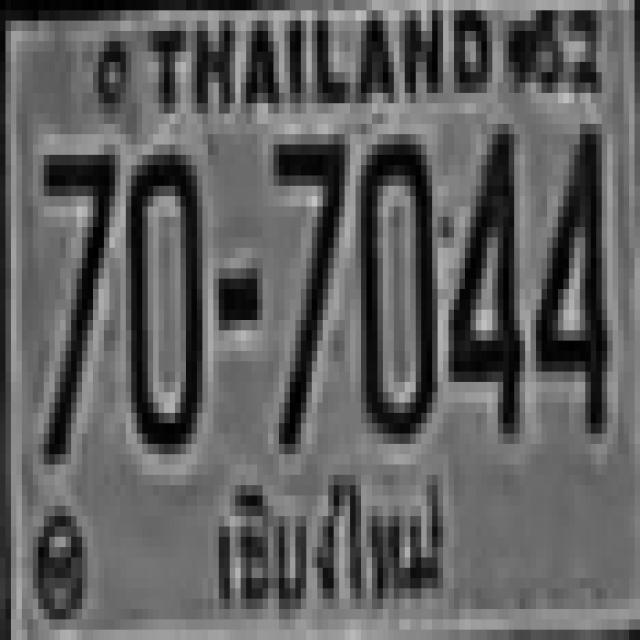0: (356, 134, 432, 434), (126, 144, 197, 444)
4: (448, 119, 520, 428), (534, 119, 604, 428)
7: (268, 134, 345, 444), (39, 145, 110, 454)
ChiangMai: (205, 469, 452, 618)
